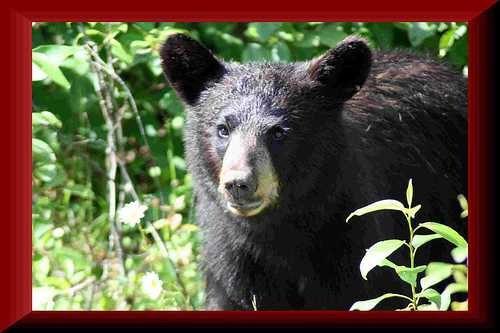bear: (193, 94, 321, 222), (150, 24, 278, 152), (273, 24, 401, 152)
